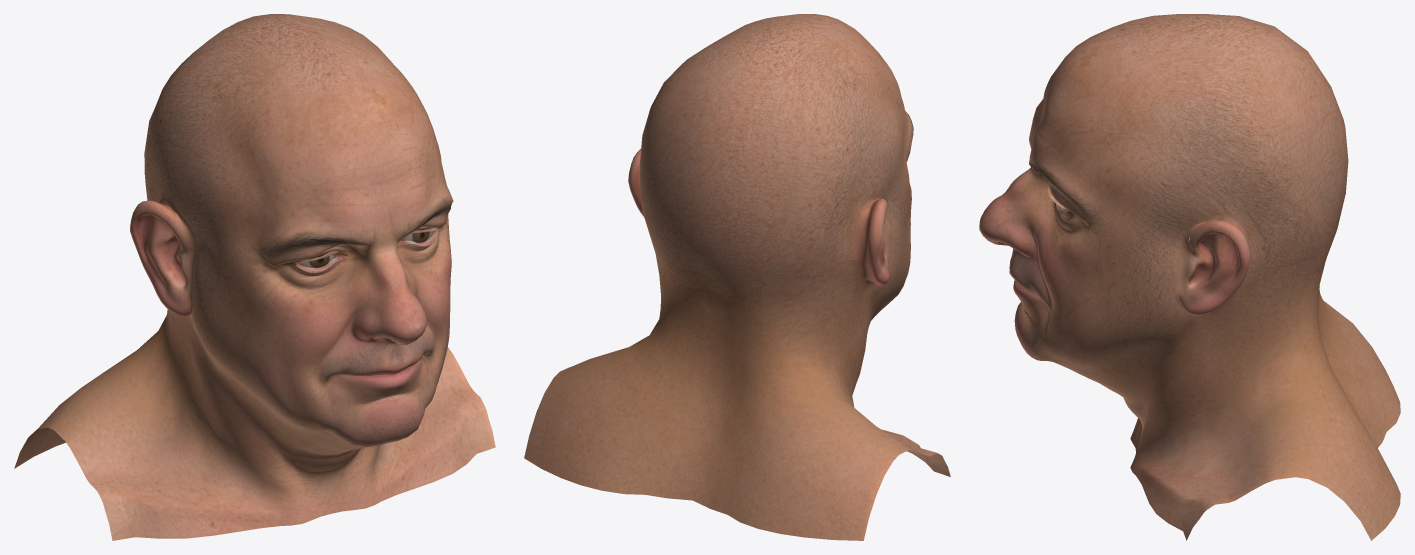
The model's file is male-b-head-p2-v1.fbx.
3 renders of one model, left to right at view 1: azimuth 30°, elevation 25°; view 2: azimuth 150°, elevation 25°; view 3: azimuth 270°, elevation 25°, orthographic. The views are drawn at different scales.
Parts seen in each view (by area): view 1: tripo_70079c80_169b_4a85_88c9_1900214fe54a; view 2: tripo_70079c80_169b_4a85_88c9_1900214fe54a; view 3: tripo_70079c80_169b_4a85_88c9_1900214fe54a.
Boxes of the visible parts, <box> form: tripo_70079c80_169b_4a85_88c9_1900214fe54a: <box>14,14,495,540</box>; tripo_70079c80_169b_4a85_88c9_1900214fe54a: <box>524,14,950,540</box>; tripo_70079c80_169b_4a85_88c9_1900214fe54a: <box>979,14,1400,540</box>.
Size of the model in its own units: 0.8755 by 0.9995 by 0.8882.
1 material, 1 textured.
